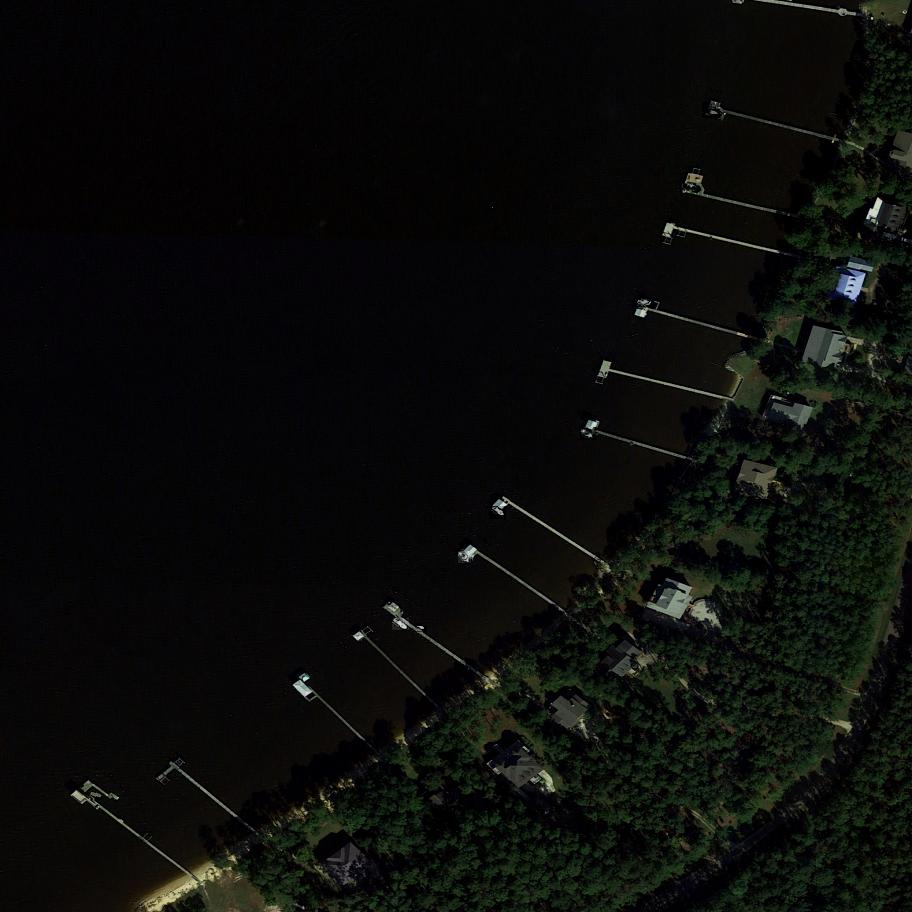ship: (580, 427, 597, 442), (489, 506, 506, 521), (392, 618, 409, 633), (458, 550, 472, 566), (702, 109, 720, 118), (90, 792, 103, 801), (638, 301, 653, 306), (682, 184, 695, 189), (417, 626, 426, 632)
